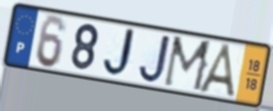6: (34, 13, 69, 71)
8: (69, 22, 101, 73)
A: (196, 42, 239, 101)
J: (101, 26, 141, 79), (137, 33, 173, 85)
M: (161, 34, 215, 95)
